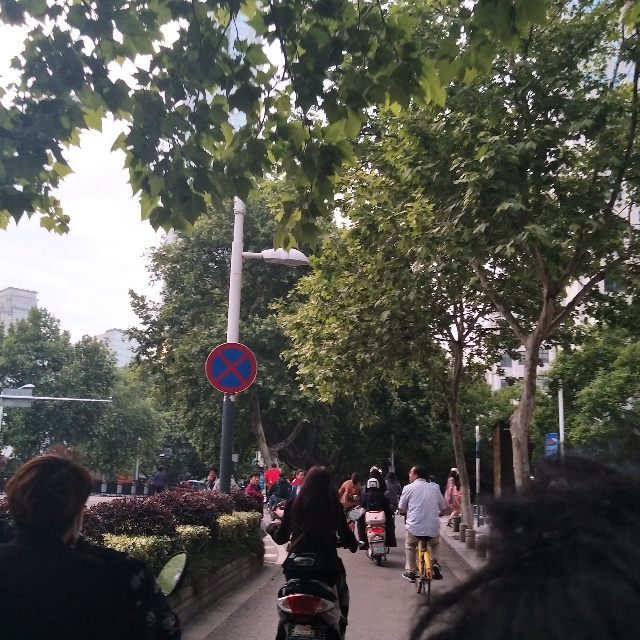stop: (205, 342, 257, 394)
